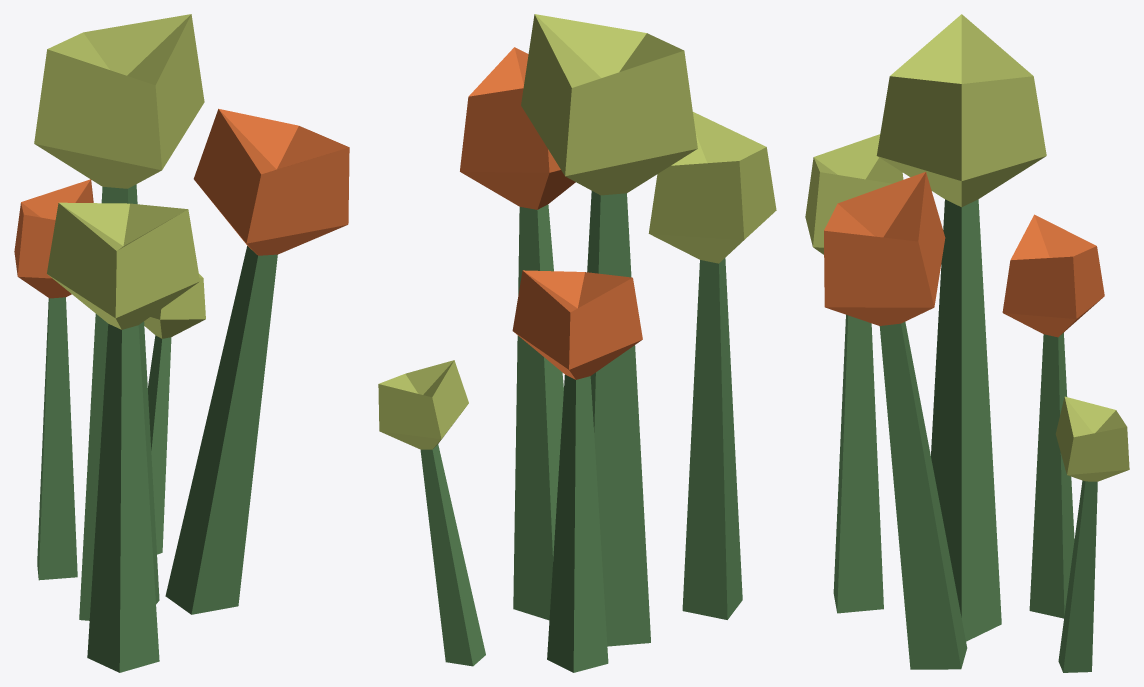
File: flower2.fbx
The picture shows the model from 3 angles, left to right: view 1: azimuth 30°, elevation 25°; view 2: azimuth 150°, elevation 25°; view 3: azimuth 270°, elevation 25°; orthographic projection. The views are drawn at different scales.
Parts seen in each view (by area): view 1: flower2; view 2: flower2; view 3: flower2.
Boxes of the visible parts, bbox=[...] form: flower2: bbox=[14, 14, 349, 672]; flower2: bbox=[378, 14, 776, 672]; flower2: bbox=[805, 14, 1129, 672].
Bounding box in the file's own units: 8.59 × 18.2 × 9.25.
